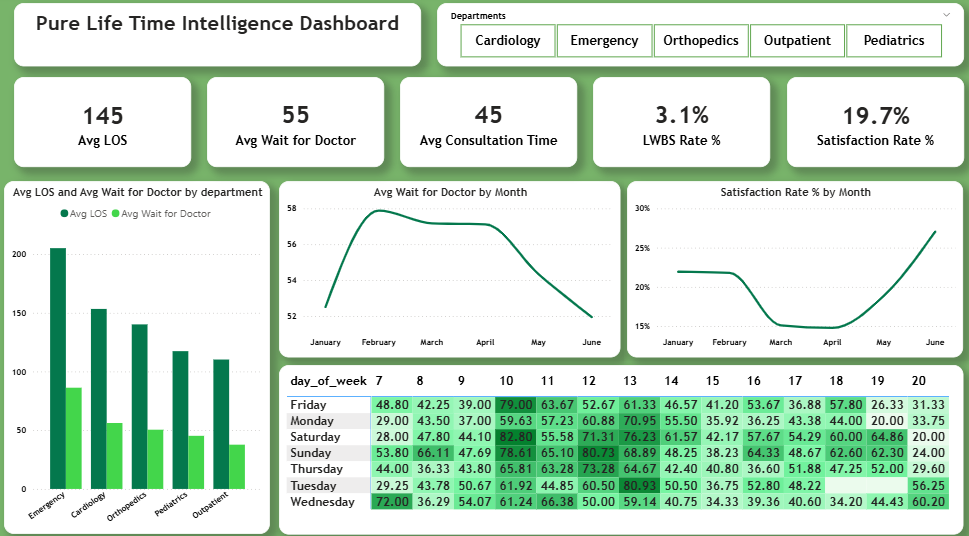

This screenshot's page, from the dashboard's own definition file:
{"tool":"powerbi","page":{"name":"Page 1","canvas":[1280,720],"ordinal":0},"visuals":[{"type":"card","fields":{"Values":["Measures (2).Avg LOS"]},"box":[24.8,106,232.2,118],"z":0,"group":"g1"},{"type":"card","fields":{"Values":["Measures (2).Avg Wait for Doctor"]},"box":[277.7,106,232.2,117.6],"z":1000,"group":"g1"},{"type":"card","fields":{"Values":["Measures (2).Avg Consultation Time"]},"box":[530.5,106,232.2,117.6],"z":2000,"group":"g1"},{"type":"card","fields":{"Values":["Measures (2).LWBS Rate %"]},"box":[783.4,106,232.2,117.6],"z":3000,"group":"g1"},{"type":"card","fields":{"Values":["Measures (2).Satisfaction Rate %"]},"box":[1036.2,106.4,231.9,118.4],"z":4000,"group":"g1"},{"type":"slicer","fields":{"Values":["patient_wait_times_dataset.department"]},"box":[578.1,9.6,689.5,82.6],"z":5000},{"type":"clusteredColumnChart","fields":{"Category":["patient_wait_times_dataset.department"],"Y":["Measures (2).Avg LOS","Measures (2).Avg Wait for Doctor"]},"box":[12.4,242.2,348.2,462.5],"z":6000},{"type":"lineChart","fields":{"Category":["patient_wait_times_dataset.date.Variation.Date Hierarchy.Month"],"Y":["Measures (2).Avg Wait for Doctor"]},"box":[371.6,242.2,447.3,231.2],"z":7000},{"type":"lineChart","fields":{"Category":["patient_wait_times_dataset.date.Variation.Date Hierarchy.Month"],"Y":["Measures (2).Satisfaction Rate %"]},"box":[827.2,242.2,440.4,231.2],"z":7001},{"type":"pivotTable","fields":{"Rows":["patient_wait_times_dataset.day_of_week"],"Columns":["patient_wait_times_dataset.hour_of_arrival"],"Values":["Measures (2).Avg Wait for Doctor"]},"box":[371.6,483.1,896,221.6],"z":7002},{"type":"textbox","box":[24.8,9.6,532.6,82.6],"z":7003},{"type":"group","id":"g1","title":"Group 1","box":[24.8,106,1242.8,118.4],"z":7004}]}

Visuals, with their boxes in screenshot pixels (x1, y1, x2, y2), scaled from the page's 1280x720 canvas onto the 969x536 screenshot:
card - Measures (2).Avg LOS: Rect(19, 79, 195, 167)
card - Measures (2).Avg Wait for Doctor: Rect(210, 79, 386, 166)
card - Measures (2).Avg Consultation Time: Rect(402, 79, 577, 166)
card - Measures (2).LWBS Rate %: Rect(593, 79, 769, 166)
card - Measures (2).Satisfaction Rate %: Rect(784, 79, 960, 167)
slicer - patient_wait_times_dataset.department: Rect(438, 7, 960, 69)
clusteredColumnChart - patient_wait_times_dataset.department x Measures (2).Avg LOS: Rect(9, 180, 273, 525)
lineChart - patient_wait_times_dataset.date.Variation.Date Hierarchy.Month x Measures (2).Avg Wait for Doctor: Rect(281, 180, 620, 352)
lineChart - patient_wait_times_dataset.date.Variation.Date Hierarchy.Month x Measures (2).Satisfaction Rate %: Rect(626, 180, 960, 352)
pivotTable - patient_wait_times_dataset.day_of_week x patient_wait_times_dataset.hour_of_arrival: Rect(281, 360, 960, 525)
textbox: Rect(19, 7, 422, 69)
"Group 1" group: Rect(19, 79, 960, 167)
